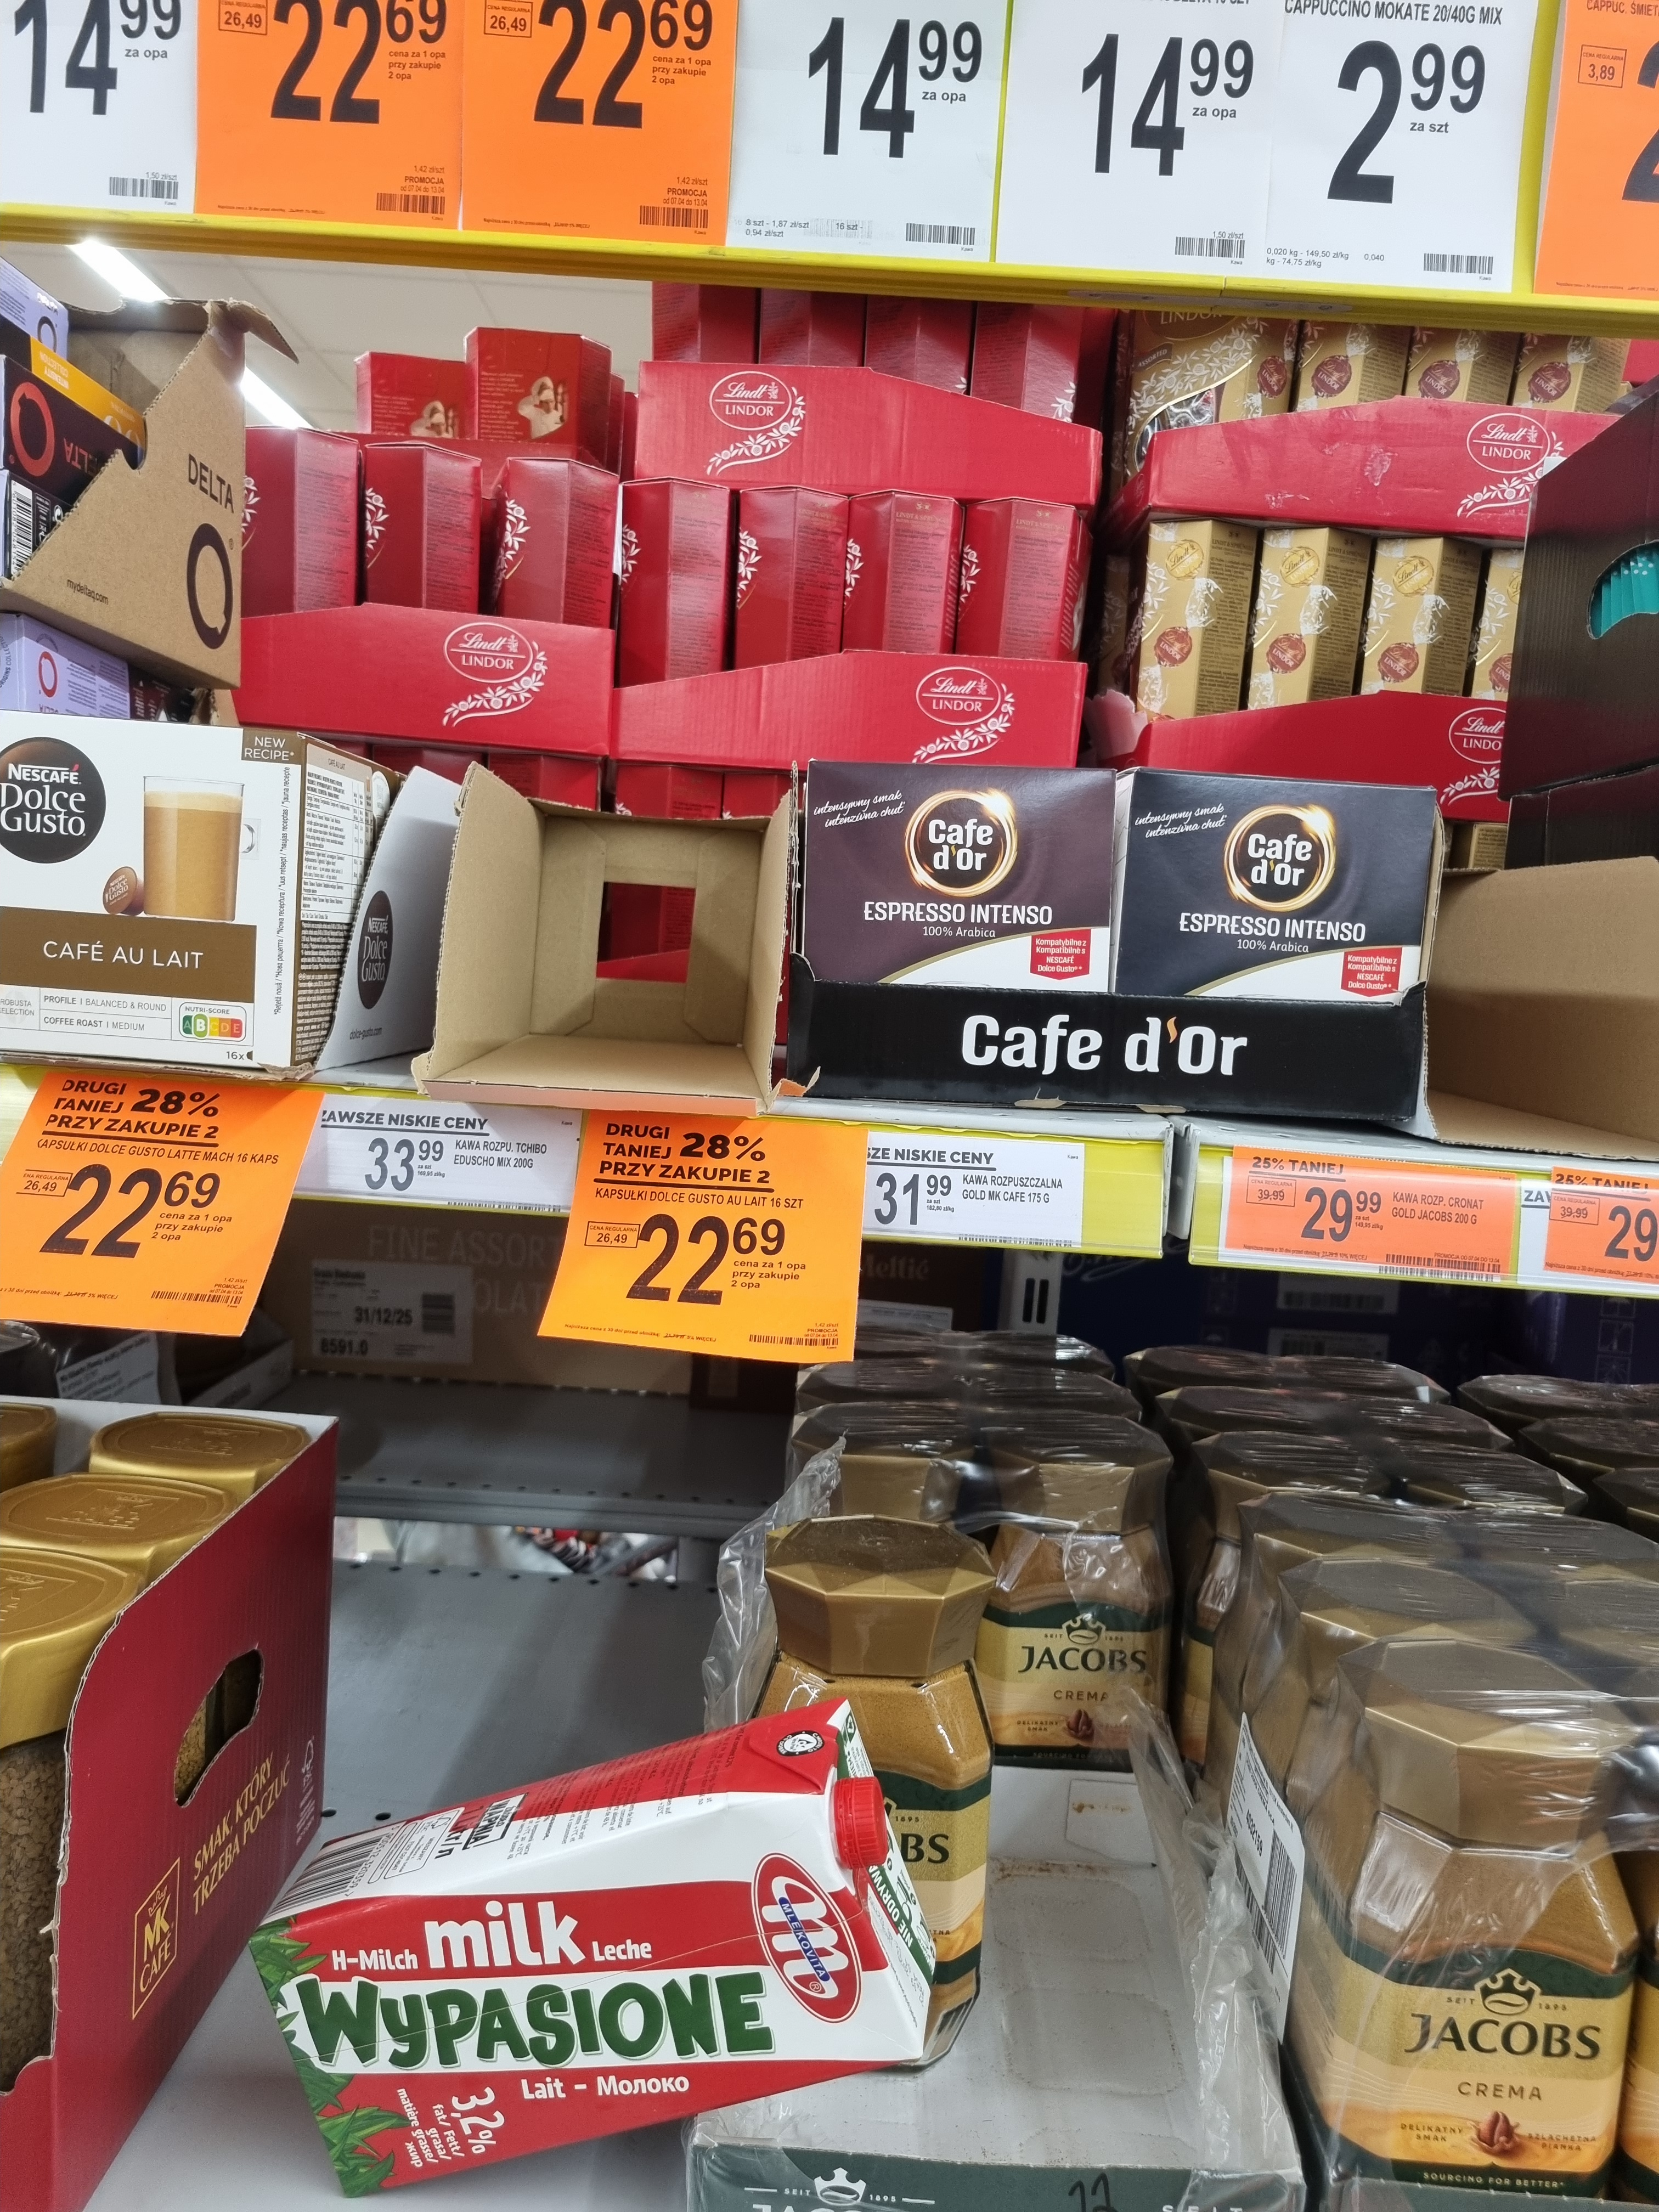Milk: (265, 1707, 924, 2179)
